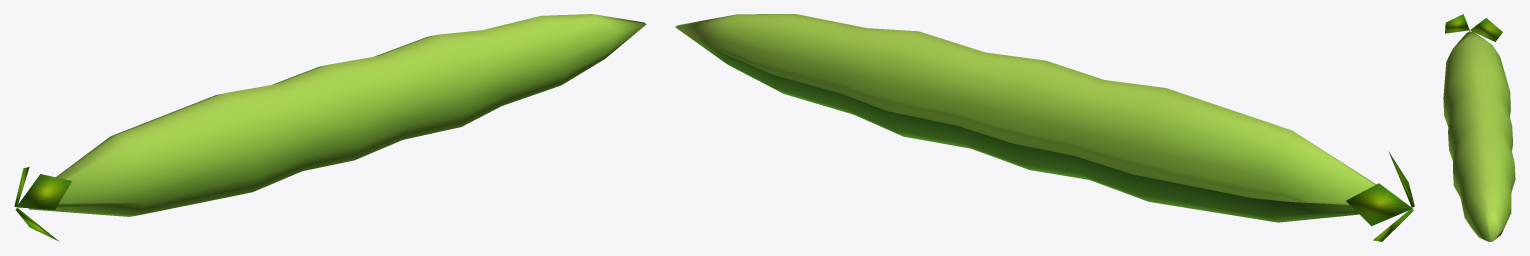
Rendered from NP_GreenBean_Harvest_LOD1.fbx.
3 renders of one model, left to right at view 1: azimuth 30°, elevation 25°; view 2: azimuth 150°, elevation 25°; view 3: azimuth 270°, elevation 25°, orthographic. The views are drawn at different scales.
Visible parts, largest first — view 1: NP_GreenBean_Harvest; view 2: NP_GreenBean_Harvest; view 3: NP_GreenBean_Harvest.
Boxes of the visible parts, bbox=[...] form: NP_GreenBean_Harvest: bbox=[14, 14, 646, 241]; NP_GreenBean_Harvest: bbox=[675, 14, 1414, 241]; NP_GreenBean_Harvest: bbox=[1443, 14, 1515, 241].
Bounding box in the file's own units: 36.79 × 5.3 × 5.01.
